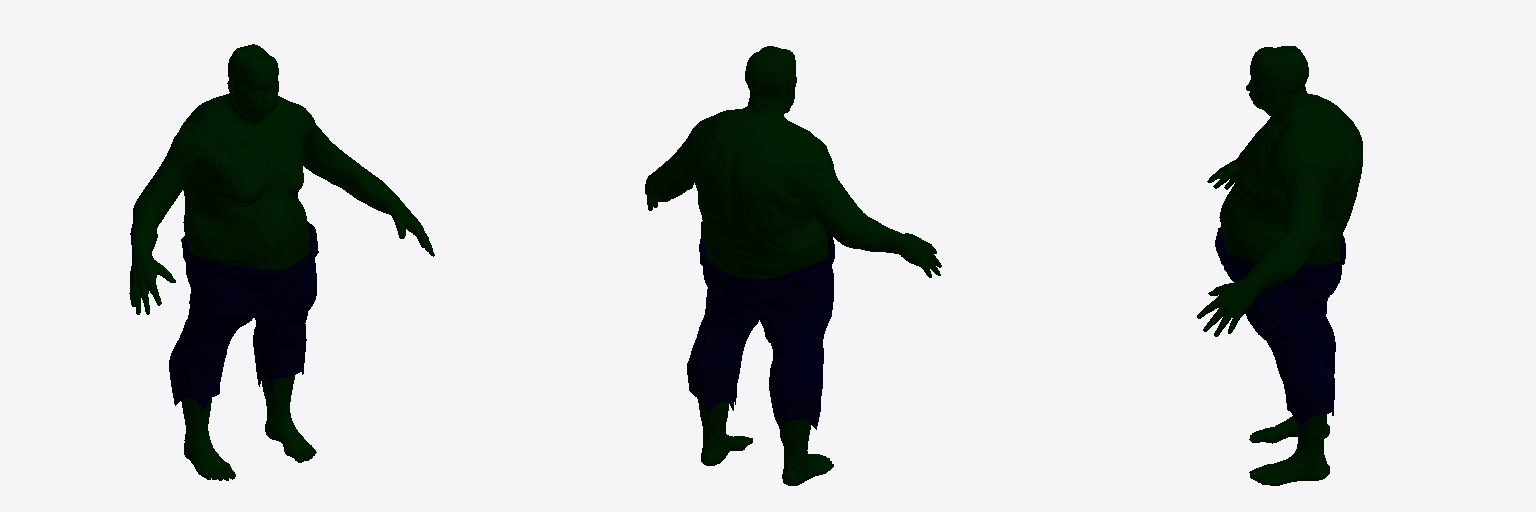
Rendered from Nuepuw3.obj.
3 views of the same model, side by side, from view 1: azimuth 30°, elevation 25°; view 2: azimuth 150°, elevation 25°; view 3: azimuth 270°, elevation 25° (orthographic).
Visible parts, largest first — view 1: jeans01.obj; view 2: jeans01.obj; view 3: jeans01.obj.
Part boxes in pixels (bbox=[...]): jeans01.obj: bbox=[129, 44, 434, 480]; jeans01.obj: bbox=[645, 46, 941, 485]; jeans01.obj: bbox=[1197, 46, 1362, 485].
Bounding box in the file's own units: 2.29 × 3.08 × 1.13.